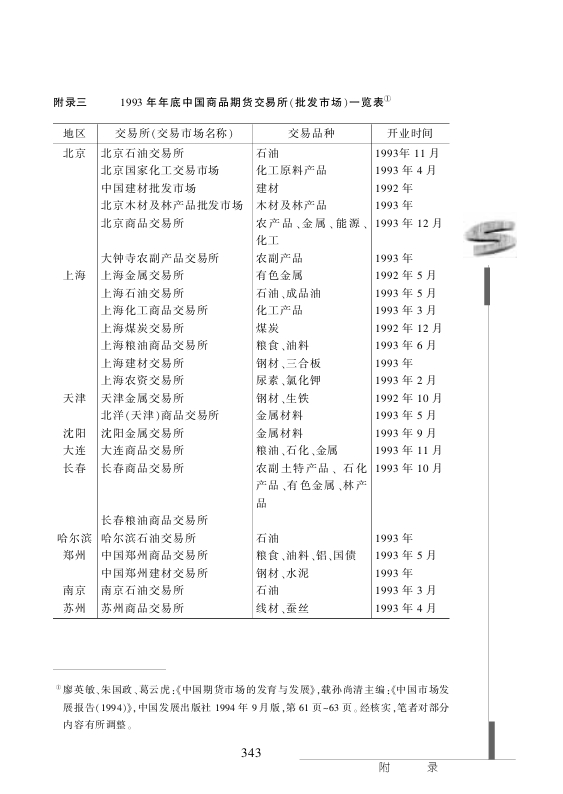table: (52, 123, 450, 618)
